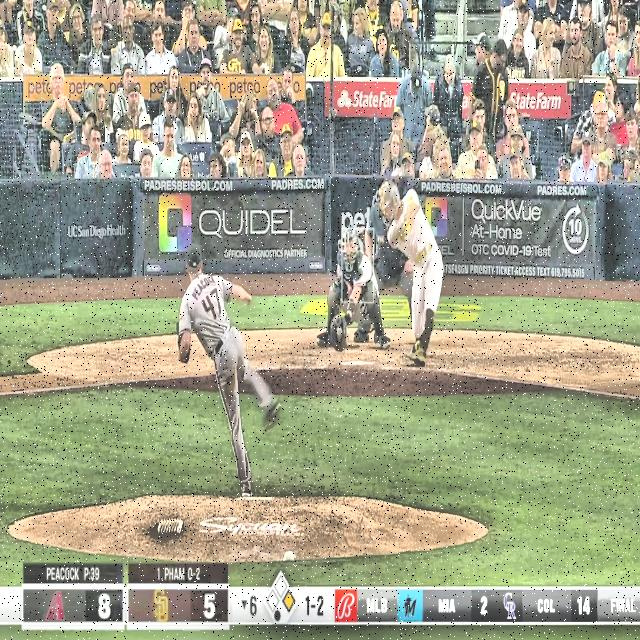baseball: (336, 325, 343, 338)
